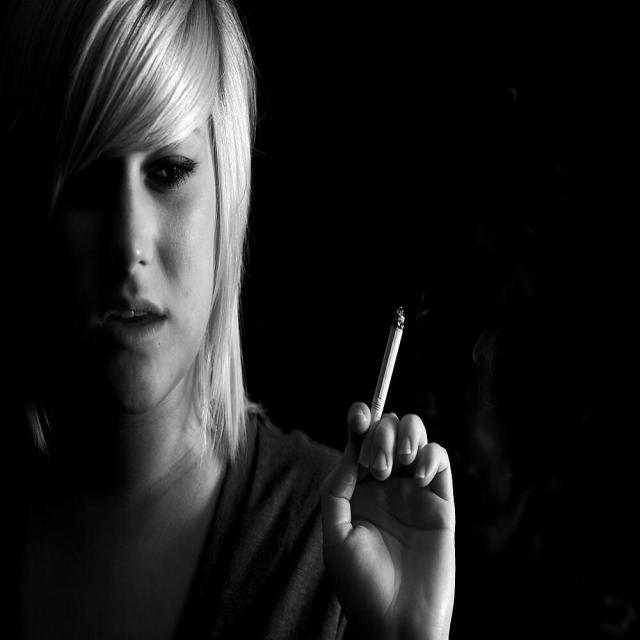Сигарета: (374, 307, 406, 424)
Тело: (91, 2, 454, 640)
